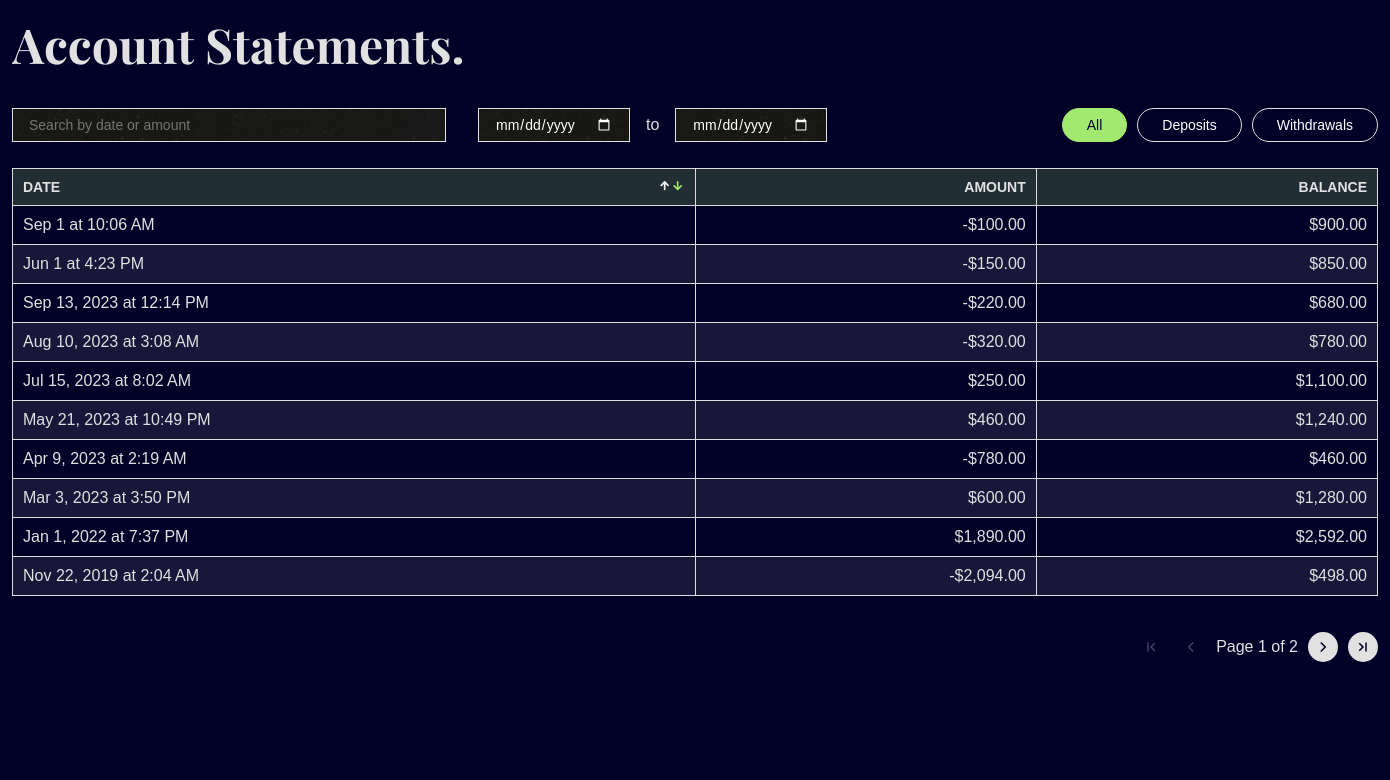
Test case: Statements Component › filters the statements based on search input
In the field with placeholder "Search by date or amount": coordinates (229, 125) [12, 108, 446, 142], type "9"
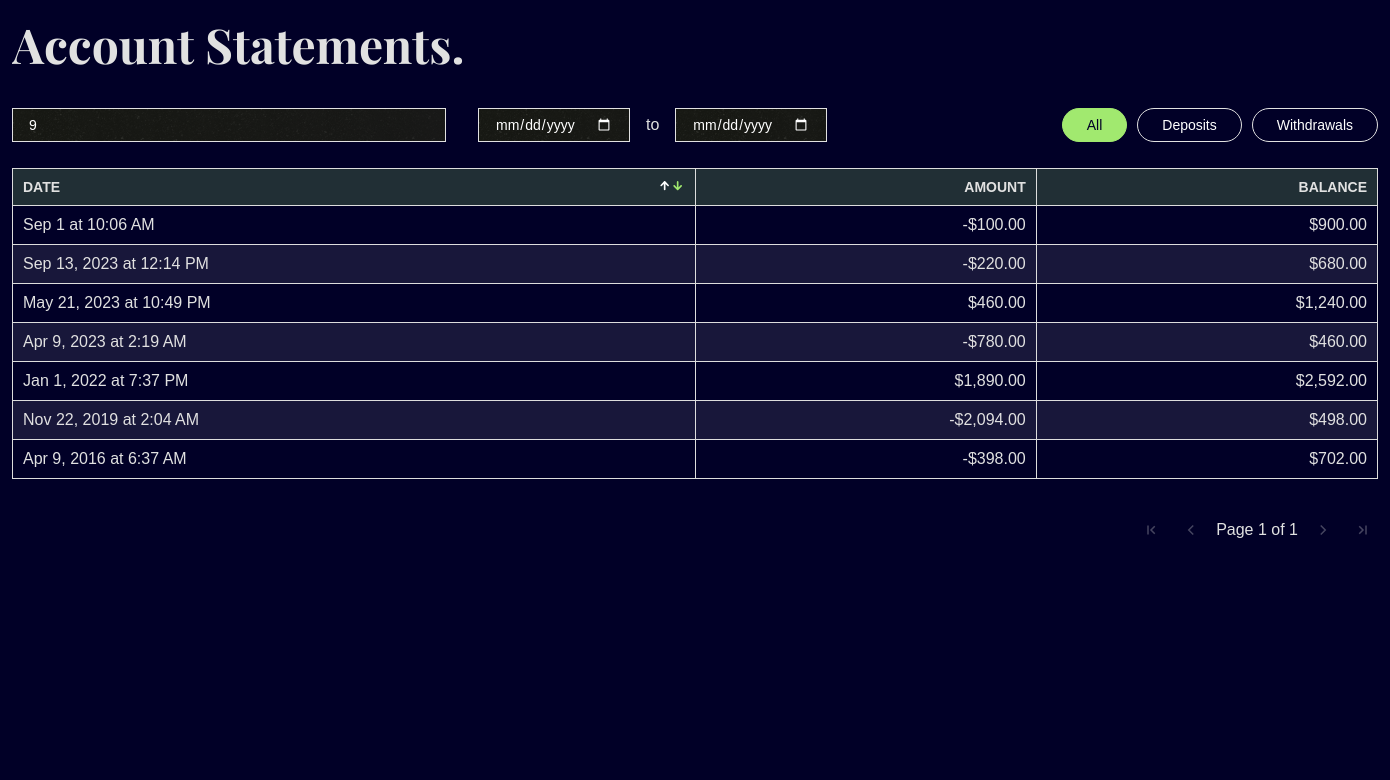
Check: the text "$900.00" is shown, box [1036, 206, 1378, 245]
Check: the text "-$398.00" is shown, box [695, 440, 1036, 479]
Check: the text "$1,890.00" is shown, box [695, 362, 1036, 401]
